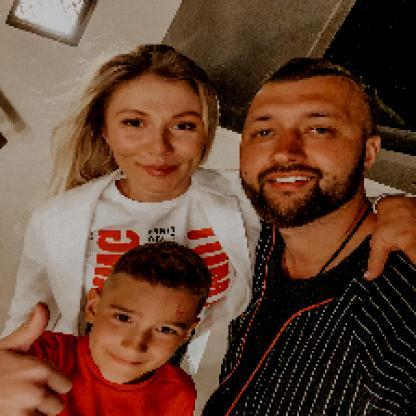child: (1, 243, 213, 416)
